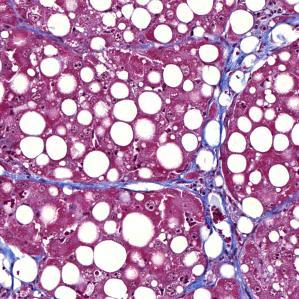fibrosis: (191, 86, 235, 203)
